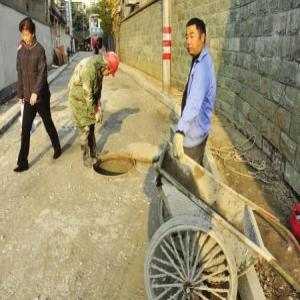none: (185, 17, 208, 59), (18, 15, 38, 47)
red: (100, 49, 121, 79)
